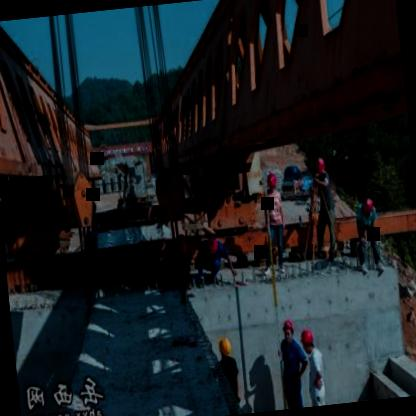helmet: (297, 324, 317, 358), (214, 332, 234, 364), (260, 167, 282, 196), (311, 152, 332, 182), (277, 314, 296, 344), (355, 192, 374, 219), (172, 228, 190, 256), (204, 231, 223, 257)
